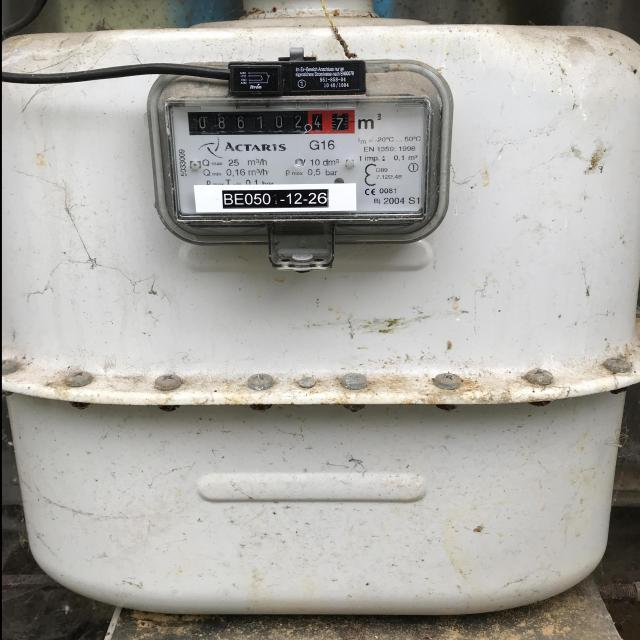gaz_meter: (167, 102, 435, 221)
indication: (187, 106, 355, 137)
